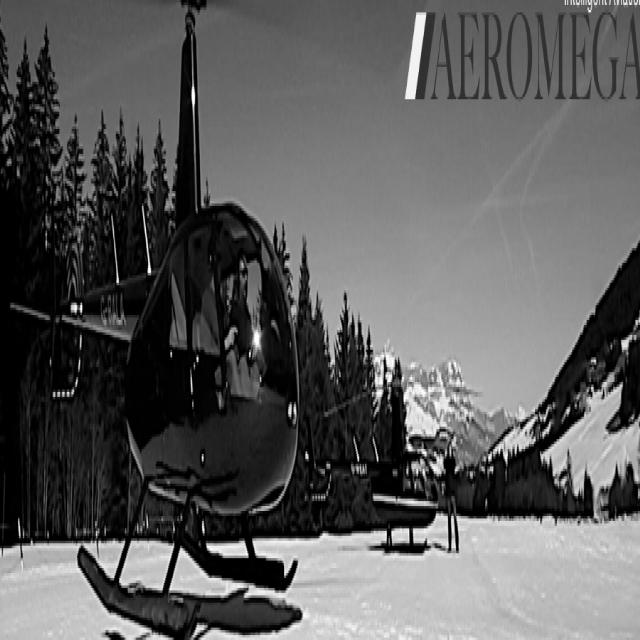helicopter: (20, 1, 323, 640)
